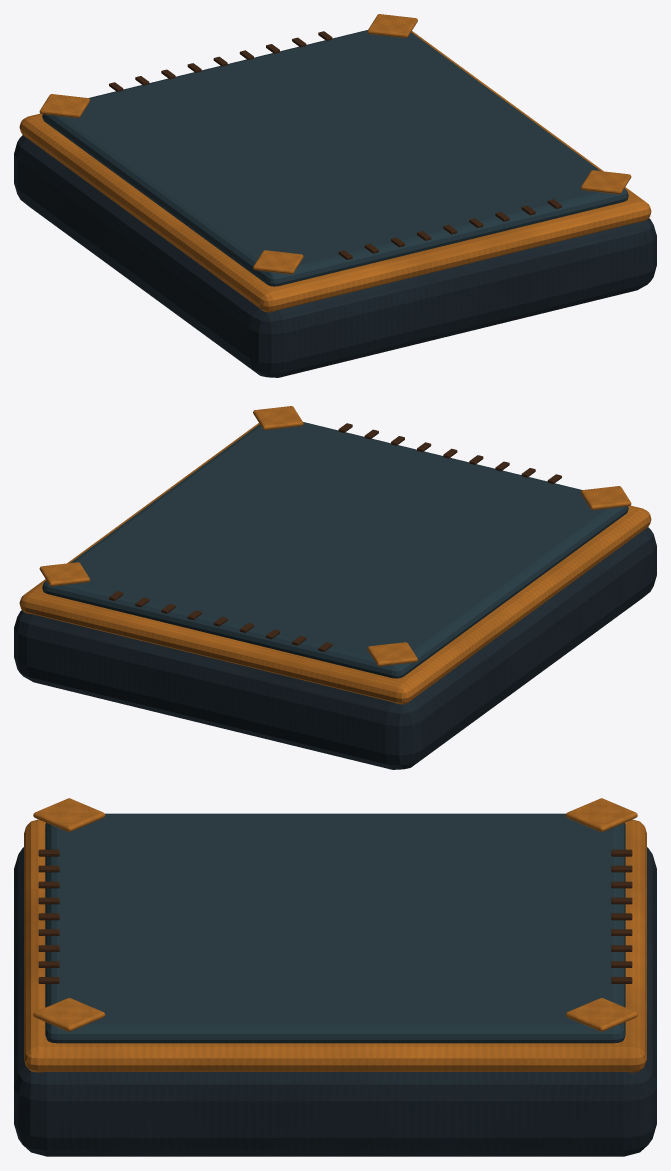
File: tile.glb
3 views of the same model, one above another, from view 1: azimuth 30°, elevation 25°; view 2: azimuth 150°, elevation 25°; view 3: azimuth 270°, elevation 25° (orthographic). The views are drawn at different scales.
Parts seen in each view (by area): view 1: Obsidian, Weathered_basalt, Brushed_gold, Patinated_bronze; view 2: Obsidian, Weathered_basalt, Brushed_gold, Patinated_bronze; view 3: Obsidian, Weathered_basalt, Brushed_gold, Patinated_bronze.
Boxes of the visible parts, x1,y1,x2,y2 form: Obsidian: [42, 30, 628, 286]; Weathered_basalt: [14, 135, 656, 377]; Brushed_gold: [19, 14, 651, 312]; Patinated_bronze: [109, 31, 561, 259]; Obsidian: [42, 422, 628, 678]; Weathered_basalt: [14, 527, 656, 769]; Brushed_gold: [19, 406, 651, 704]; Patinated_bronze: [109, 423, 561, 651]; Obsidian: [45, 813, 625, 1043]; Weathered_basalt: [14, 847, 656, 1156]; Brushed_gold: [24, 798, 646, 1072]; Patinated_bronze: [38, 849, 632, 983].
Bounding box in the file's own units: 1.16 × 0.29 × 1.28.
4 materials, 3 textured.
